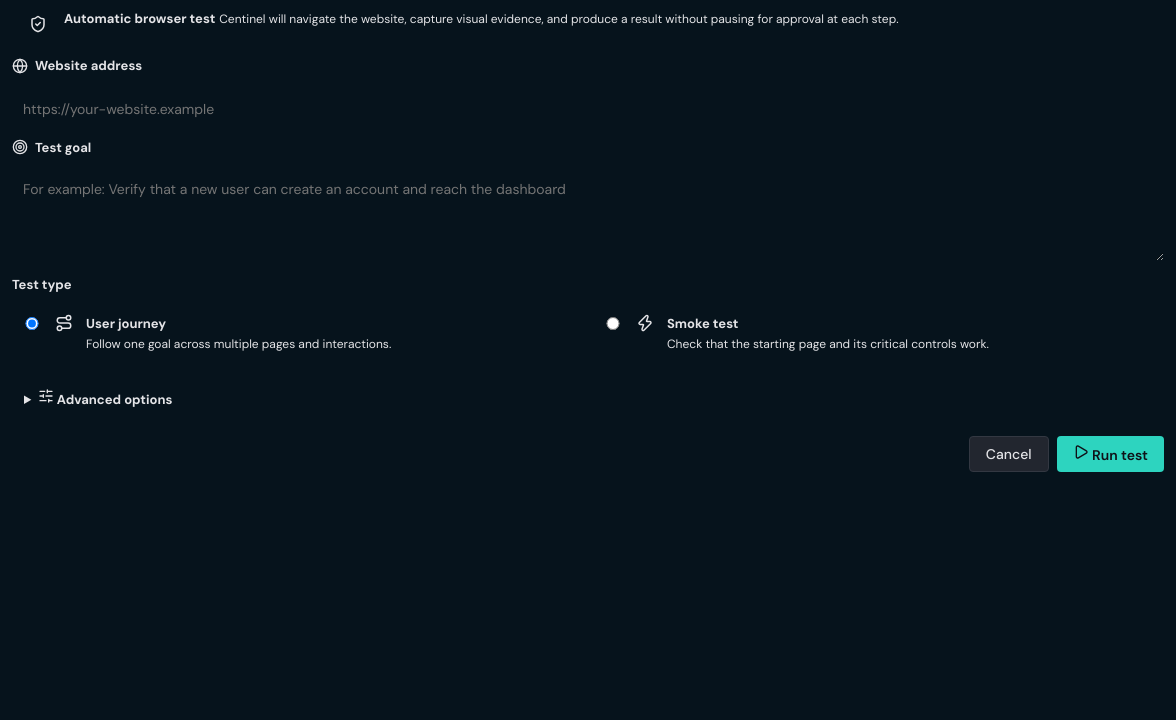
Test: DynamicTestForm › keeps entered values and exposes the error when the request fails
Type "https://example.com" into the field labelled "Website address" at coordinates (588, 108), box [12,88,1164,130]
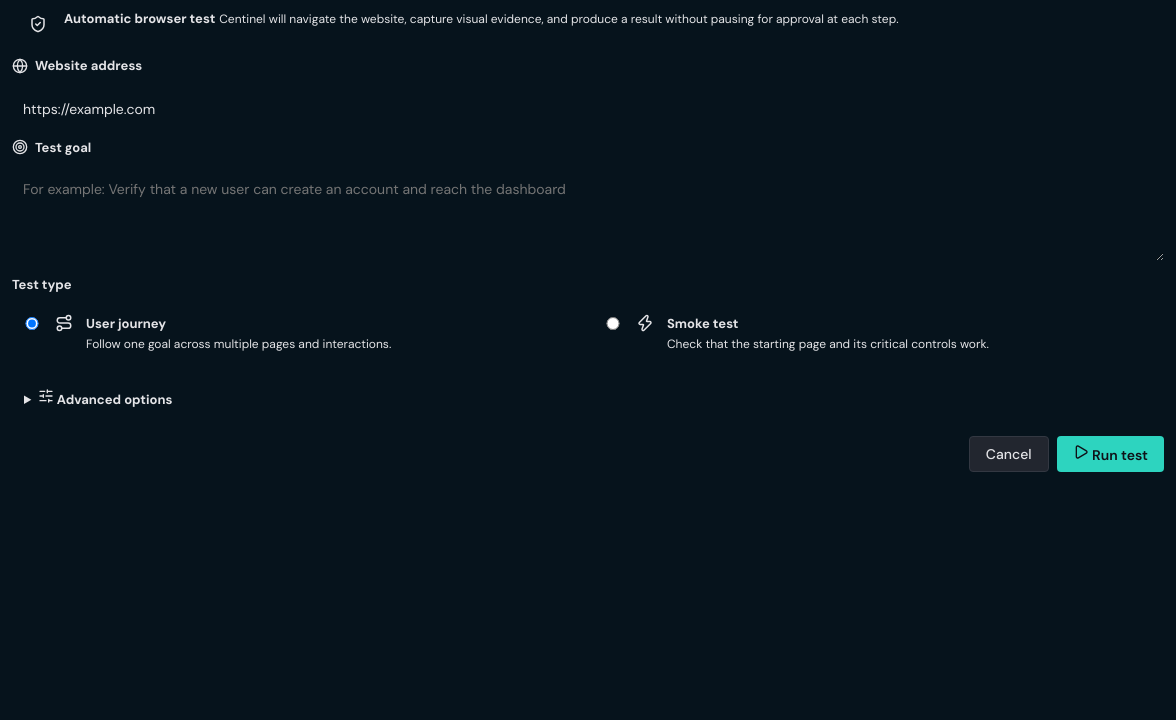
Type "Verify the home page loads" into the text box labelled "Test goal" at coordinates (588, 215), box [12,169,1164,261]
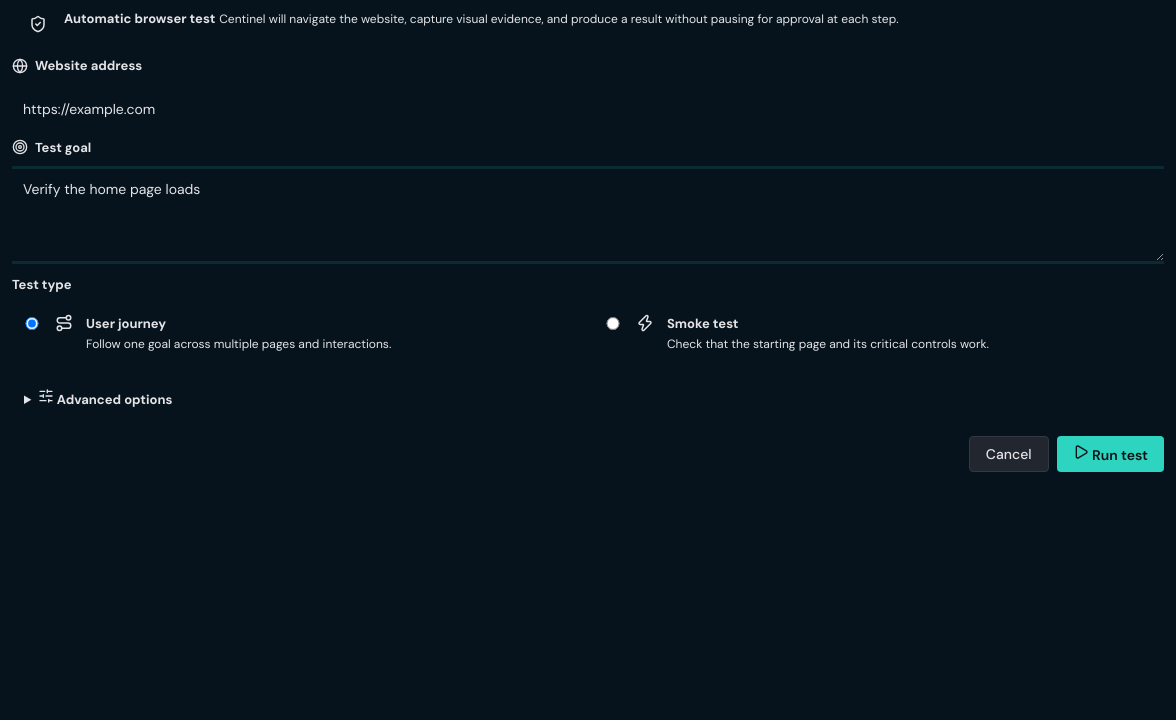
Click the button "Run test" at coordinates (1110, 454), box [1057,436,1164,472]
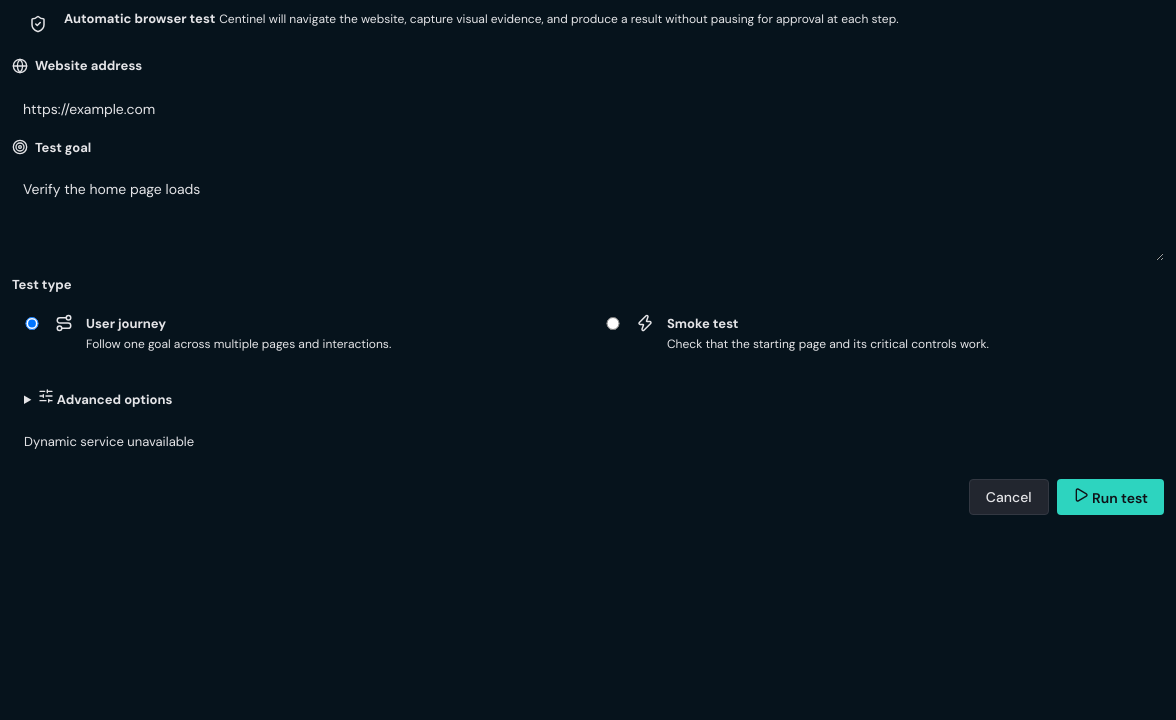
Result: the message reads "Dynamic service unavailable" at [24,432,194,450]
